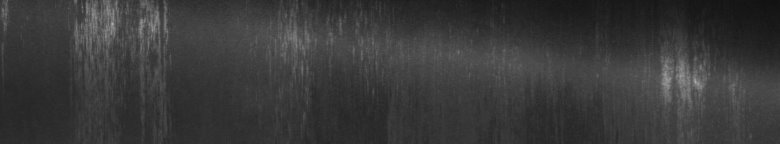ka: (294, 16, 363, 74)
